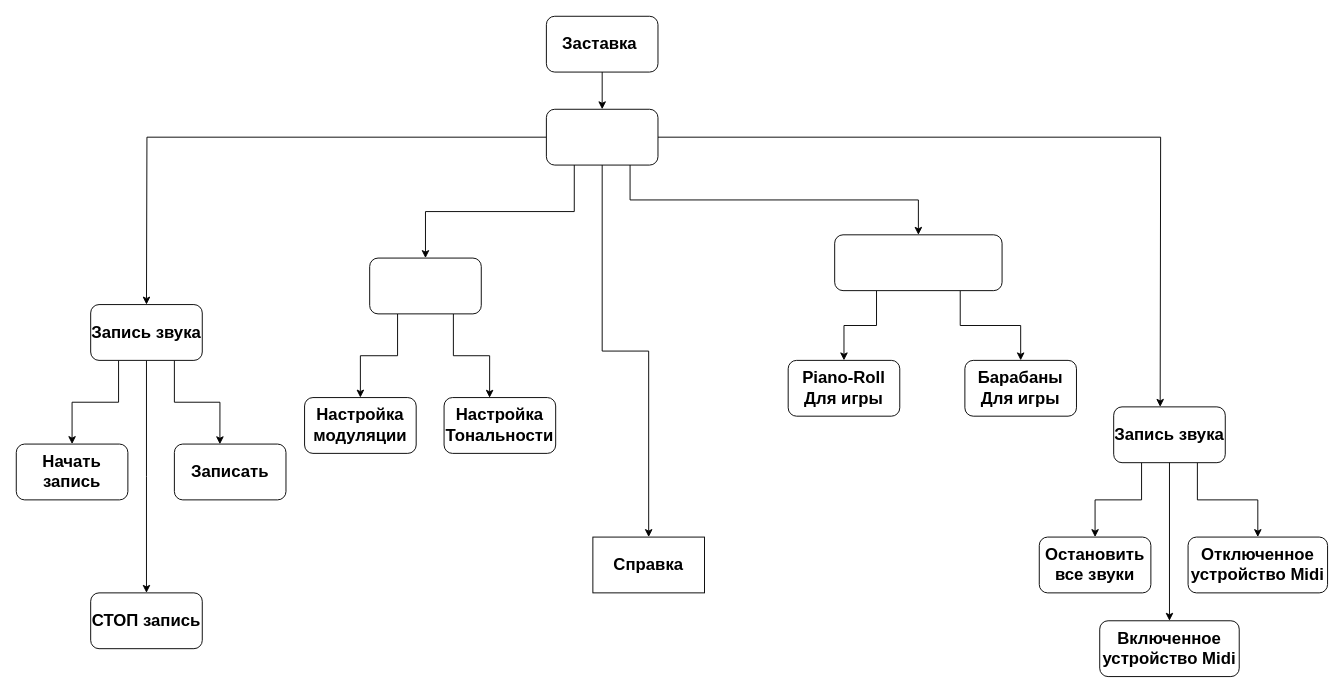
Some shapes in this 1344 by 698 pixel diagram are drawn without their labels. The box of each missing label's shape, as (x1, y1, x2, y2) in pixels:
Воспроизведение звука: (834, 234, 1002, 291)
Выбор Инструмента: (369, 257, 481, 314)
Главная страница: (545, 108, 658, 165)
